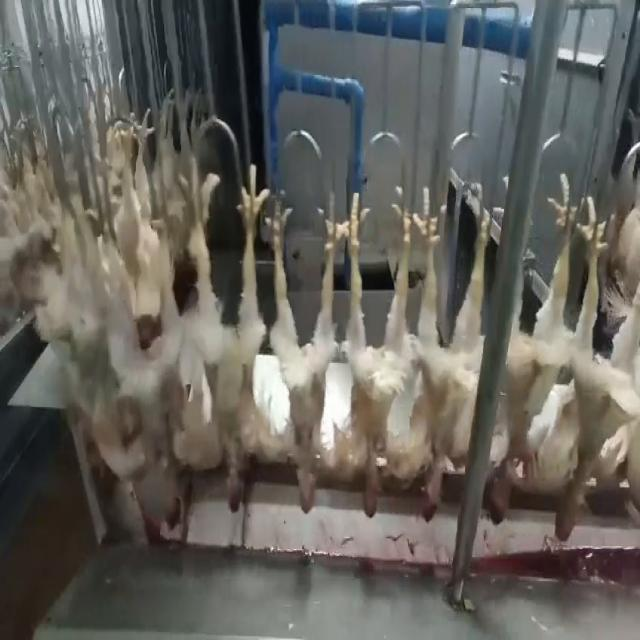chicken: (478, 169, 584, 526), (408, 170, 497, 525), (176, 155, 263, 513), (551, 186, 638, 542), (329, 187, 418, 520), (103, 163, 177, 523), (264, 182, 340, 519)
